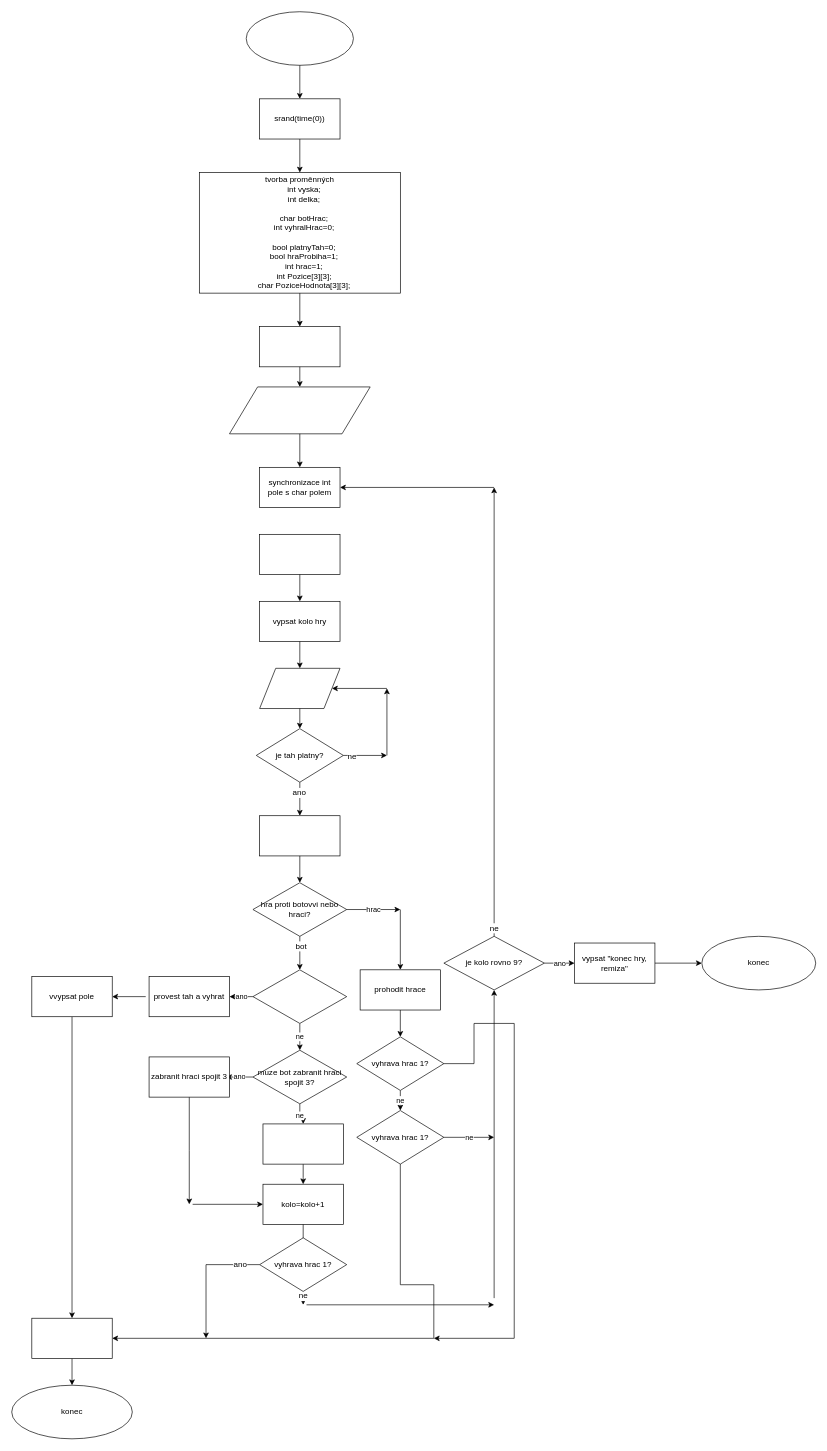
The diagram is 827 pixels wide and 1451 high, and some of its shapes have lost their labels. Each missing label, with the centre of its shape:
hra proti botovi nebo hráči?: the point at 299,410
hrat random: the point at 302,1143
muze bot vvyhrat v tomto tahu?: the point at 299,996
nastavit souradnice na znak soucasneho hrace: the point at 299,835
souradnice tahu?: the point at 299,688
start: the point at 299,38
vyprazdneni hraciho pole: the point at 299,346
vypsani char pole: the point at 299,554
vypsat výherce: the point at 71,1338
